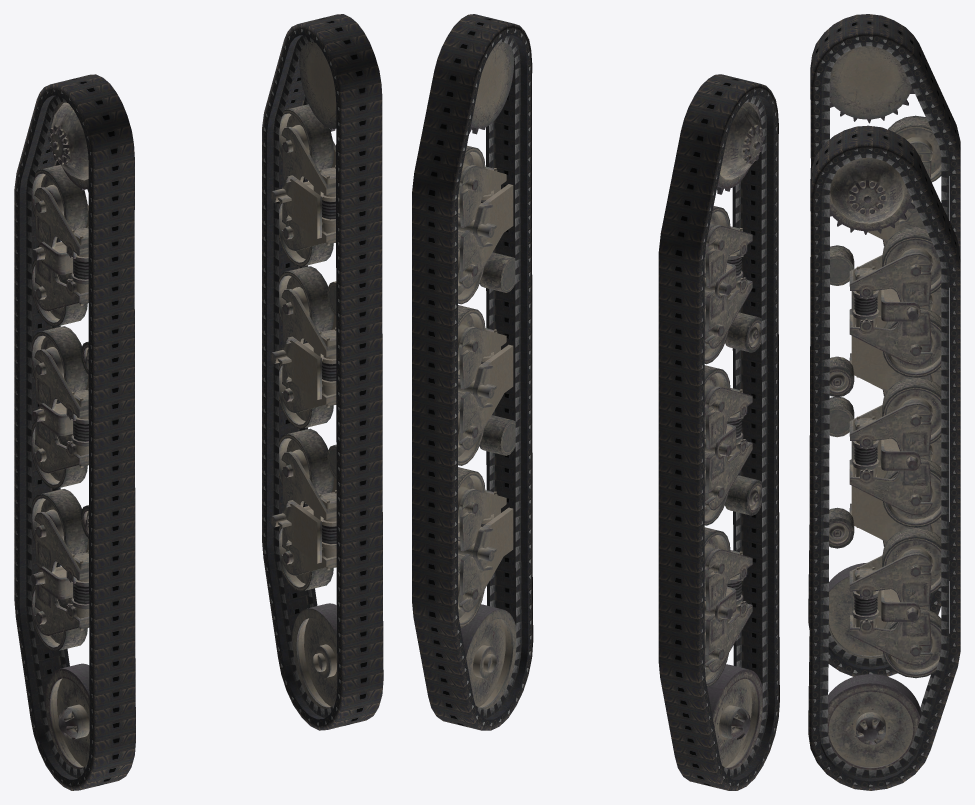
File: Chassis.glb
3 views of the same model, side by side, from view 1: azimuth 30°, elevation 25°; view 2: azimuth 150°, elevation 25°; view 3: azimuth 270°, elevation 25° (orthographic). The views are drawn at different scales.
Visible parts, largest first — view 1: set_0_group_0, set_1_group_0, set_3_group_0, set_2_group_0; view 2: set_0_group_0, set_1_group_0, set_3_group_0, set_2_group_0; view 3: set_3_group_0, set_1_group_0, set_2_group_0, set_0_group_0.
Boxes of the visible parts, <box> form: set_0_group_0: <box>14,74,135,790</box>; set_1_group_0: <box>262,14,383,730</box>; set_3_group_0: <box>270,41,337,708</box>; set_2_group_0: <box>31,102,89,769</box>; set_0_group_0: <box>658,74,779,790</box>; set_1_group_0: <box>412,14,533,730</box>; set_3_group_0: <box>458,42,516,709</box>; set_2_group_0: <box>704,102,764,769</box>; set_3_group_0: <box>821,157,941,770</box>; set_1_group_0: <box>808,125,960,790</box>; set_2_group_0: <box>828,46,941,658</box>; set_0_group_0: <box>808,14,960,676</box>.
Bounding box in the file's own units: 1.96 × 4.23 × 0.9007.
Materials: 4 (4 with a texture image).
